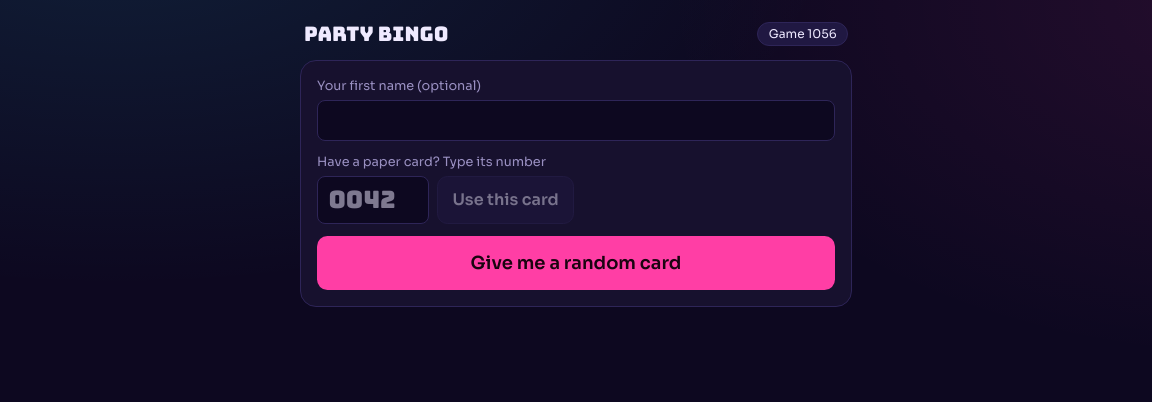
Test: a number outside the printed cards is refused with the real range
Type "42" into the field named "Card number" at (373, 200), box [317,176,429,224]
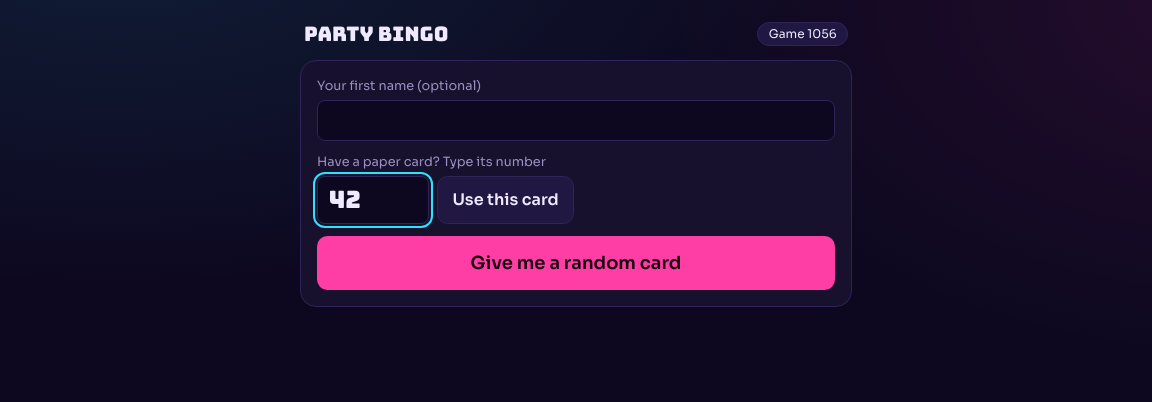
Click the button "Use this card" at (506, 200), box [437,176,574,224]
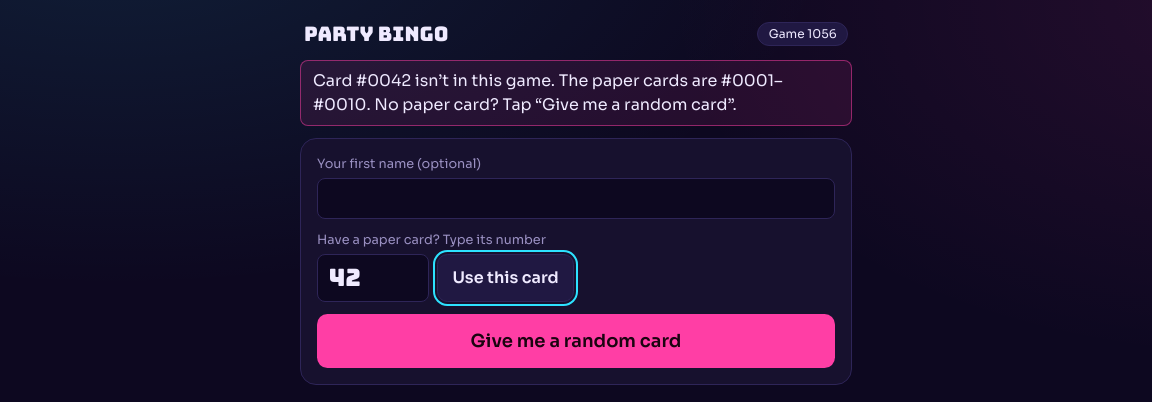
Now the message shows "Card #0042 isn’t in this game. The paper cards are #0001–#0010.", box [313,70,782,115]
Replace the text in the field named "Card number" with "6000" at (373, 278), box [317,254,429,302]
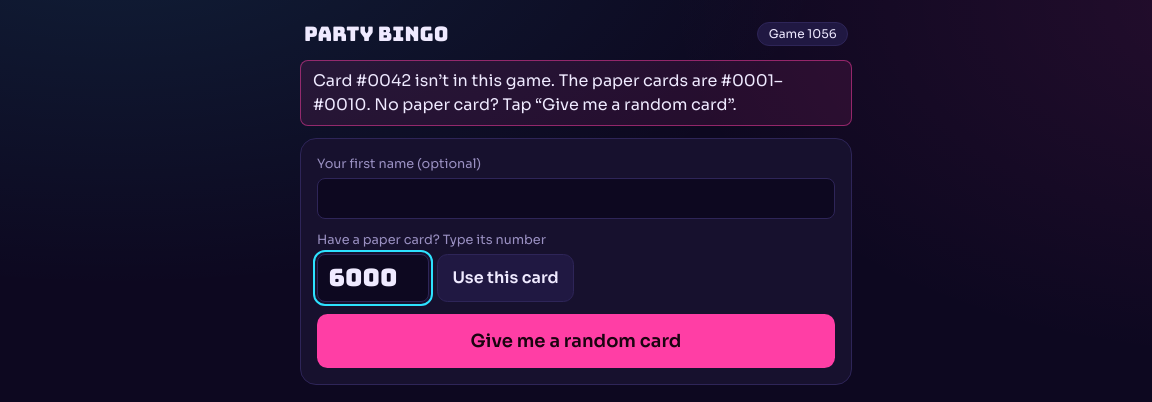
Click the button "Use this card" at (506, 278), box [437,254,574,302]
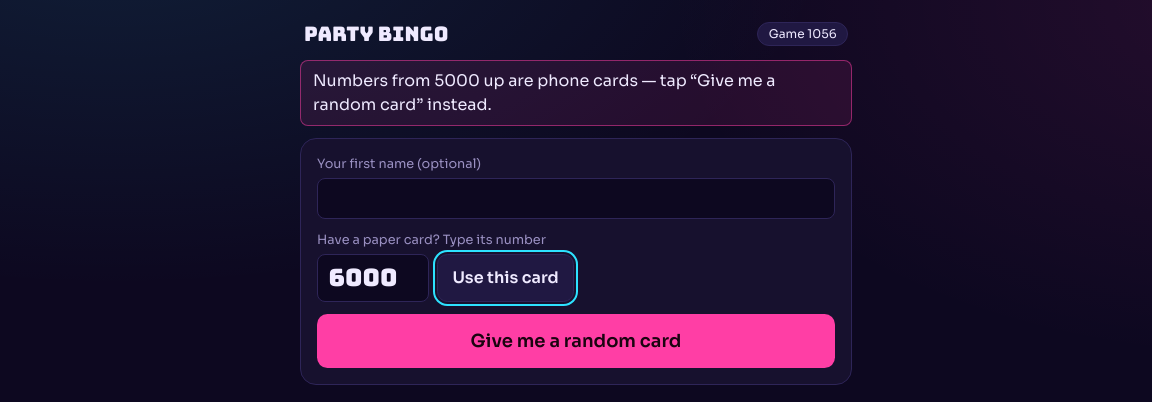
Now the message shows "phone cards", box [313,70,776,115]
